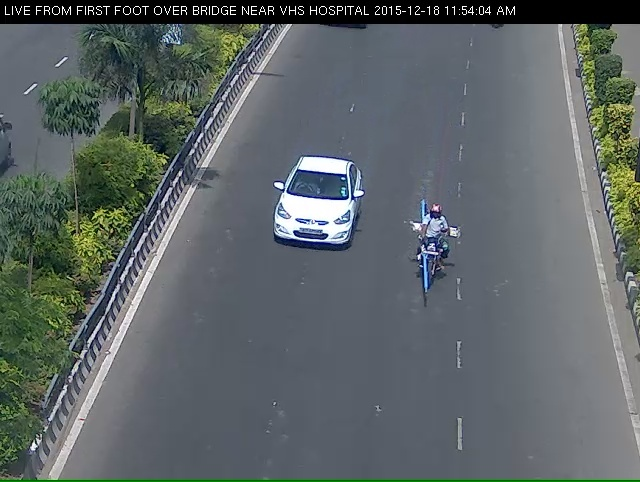Car: (256, 162, 361, 279)
Person: (400, 208, 461, 314)
